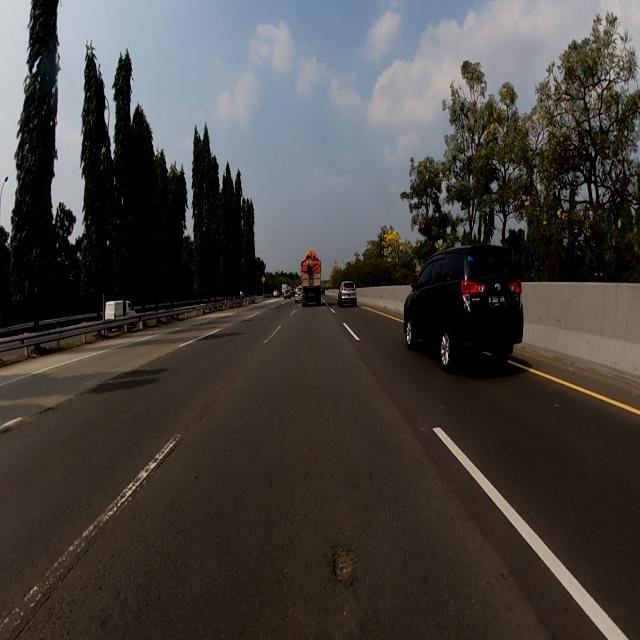Buraco: (326, 541, 362, 590)
